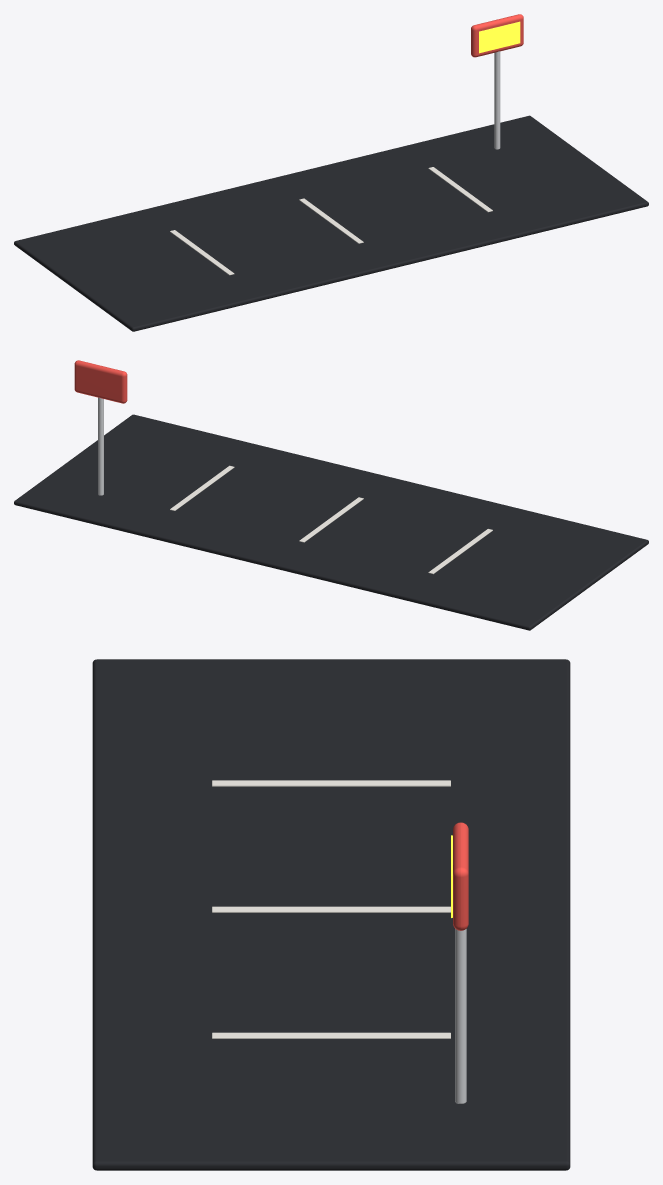
File: retro_diner__drive_thru.glb
3 views of the same model, one above another, from view 1: azimuth 30°, elevation 25°; view 2: azimuth 150°, elevation 25°; view 3: azimuth 270°, elevation 25° (orthographic). The views are drawn at different scales.
Visible parts, largest first — view 1: Flat_001, Set, Glow; view 2: Flat_001, Set; view 3: Flat_001, Set, Flat_002, Flat_003, Flat_004.
Boxes of the visible parts, x1,y1,x2,y2 form: Flat_001: (14,115,648,331); Set: (471,14,523,149); Glow: (479,21,520,53); Flat_001: (14,414,648,630); Set: (74,360,127,495); Flat_001: (92,659,570,1170); Set: (453,822,468,1103); Flat_002: (212,780,450,786); Flat_003: (212,906,450,912); Flat_004: (212,1032,450,1038).
Bounding box in the file's own units: 12 × 2.97 × 4.8.
